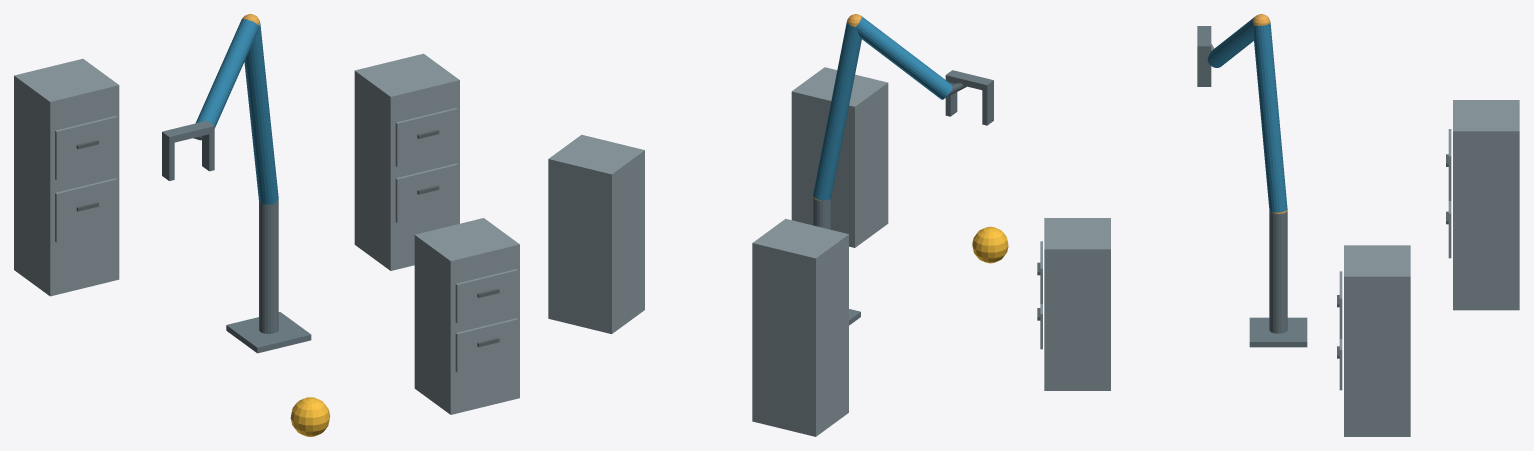
3 renders of one model, left to right at view 1: azimuth 30°, elevation 25°; view 2: azimuth 150°, elevation 25°; view 3: azimuth 270°, elevation 25°, orthographic. The views are drawn at different scales.
Parts seen in each view (by area): view 1: cabinet_3 body, cabinet_2 body, cabinet_1 body, moving link 1, cabinet_3 drawer front, cabinet_3 drawer front.001, cabinet_2 drawer front, cabinet_2 drawer front.001, fixed post, cabinet_1 drawer front, cabinet_1 drawer front.001, moving link 2 (+4 smaller); view 2: cabinet_3 body, cabinet_2 body, cabinet_1 body, moving link 1, moving link 2, ball ball_1, gripper bridge, fixed post; view 3: cabinet_3 body, cabinet_2 body, cabinet_1 body, moving link 1, fixed post, pedestal, moving link 2, gripper finger 1.
Boxes of the visible parts, <box> form: cabinet_3 body: <box>14,58,119,296</box>; cabinet_2 body: <box>354,53,459,270</box>; cabinet_1 body: <box>414,218,519,414</box>; moving link 1: <box>244,22,278,204</box>; cabinet_3 drawer front: <box>55,178,117,242</box>; cabinet_3 drawer front.001: <box>55,116,117,180</box>; cabinet_2 drawer front: <box>395,163,457,222</box>; cabinet_2 drawer front.001: <box>395,108,457,167</box>; fixed post: <box>259,201,278,333</box>; cabinet_1 drawer front: <box>455,318,517,372</box>; cabinet_1 drawer front.001: <box>455,269,517,323</box>; moving link 2: <box>196,19,258,128</box>; cabinet_3 body: <box>752,218,848,436</box>; cabinet_2 body: <box>548,134,644,333</box>; cabinet_1 body: <box>791,67,888,247</box>; moving link 1: <box>813,22,861,200</box>; moving link 2: <box>856,16,952,99</box>; ball ball_1: <box>972,226,1008,263</box>; gripper bridge: <box>945,70,993,91</box>; fixed post: <box>813,198,830,229</box>; cabinet_3 body: <box>1453,100,1519,310</box>; cabinet_2 body: <box>1344,245,1410,436</box>; cabinet_1 body: <box>1044,218,1110,390</box>; moving link 1: <box>1253,23,1287,212</box>; fixed post: <box>1269,211,1287,333</box>; pedestal: <box>1249,317,1307,347</box>; moving link 2: <box>1207,17,1254,67</box>; gripper finger 1: <box>1197,52,1211,86</box>.
Bounding box in the file's own units: 1.71 × 1.48 × 2.1.
